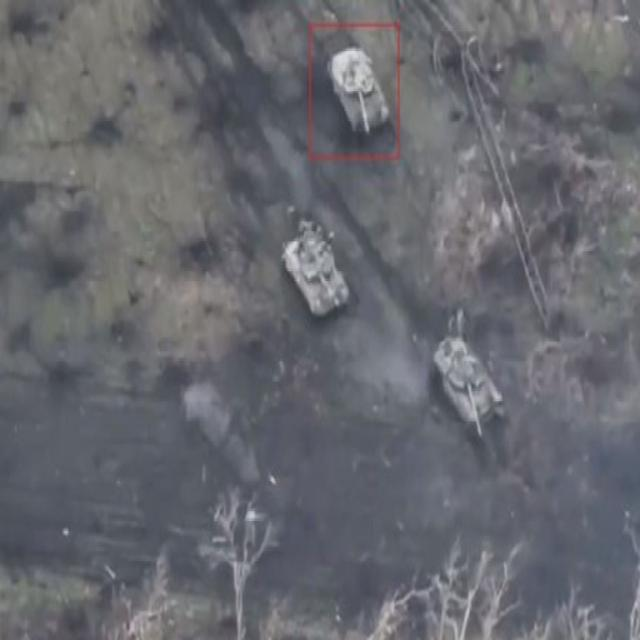TANK: (423, 324, 505, 440), (274, 211, 356, 322), (328, 42, 392, 140)
